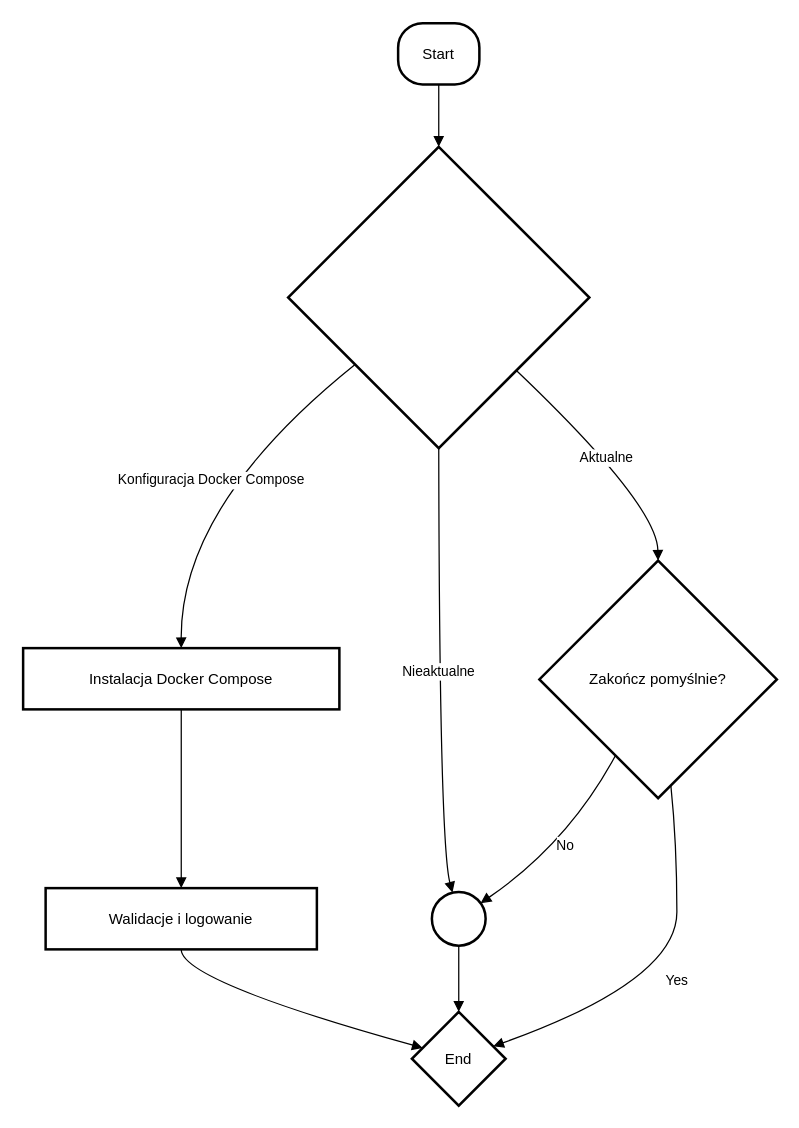
The diagram is 799 pixels wide and 1128 high, and some of its shapes have lost their labels. The centre of each missing label's shape, as x and y in pixels:
"Exit" goes at point 458,918.
"Kontynuacja skryptu SLAVA" goes at point 438,297.
